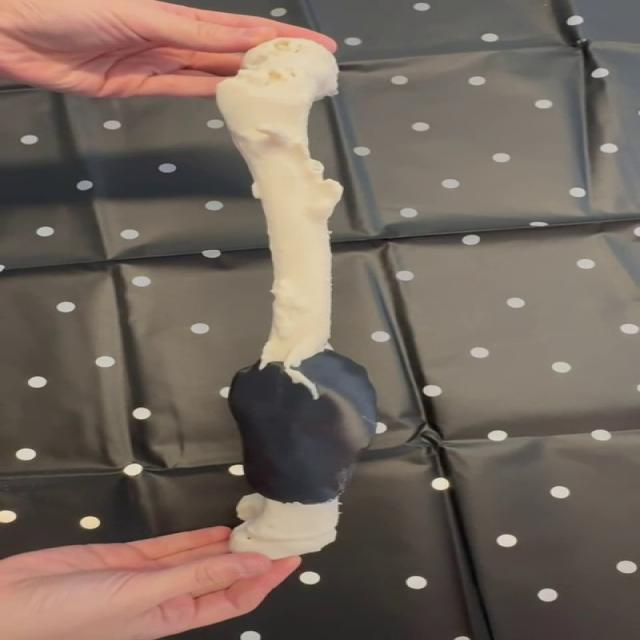bones: (218, 38, 377, 559)
